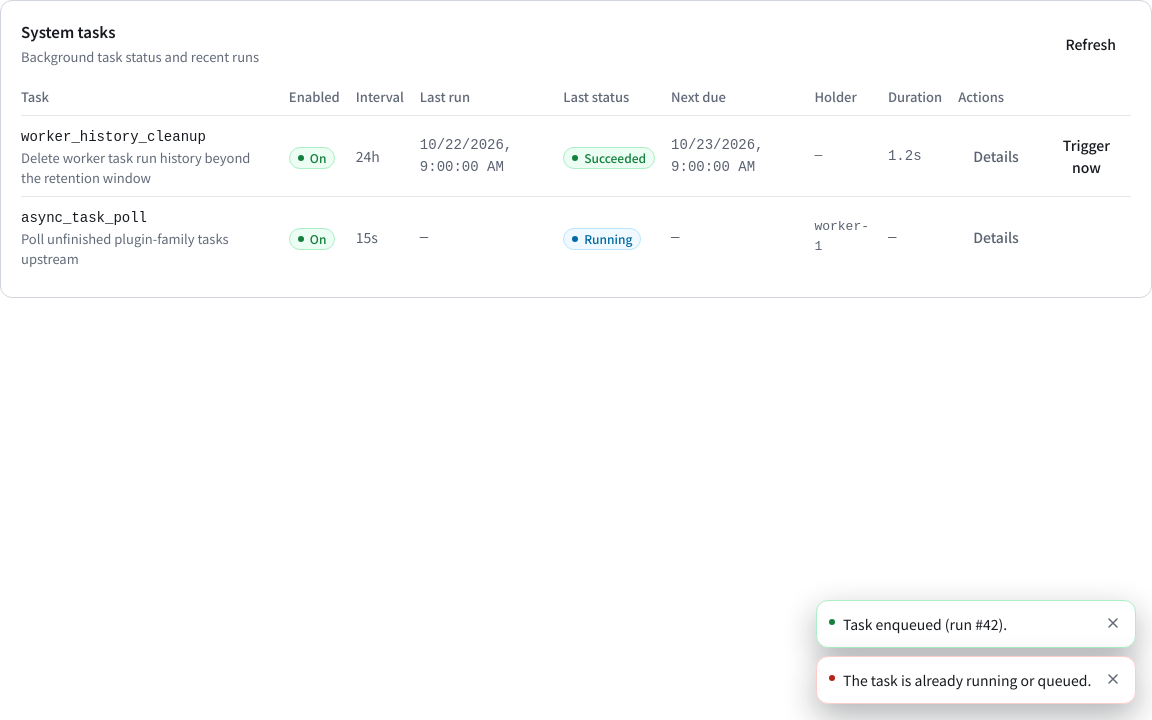
Test: SystemTasksCard › reports worker unavailability when the 409 races the poll
Expected: the button "worker_history_cleanup" is shown, [21, 126, 206, 148]
Click the button "Trigger now".
click(1086, 156)  # box [1042, 138, 1131, 174]
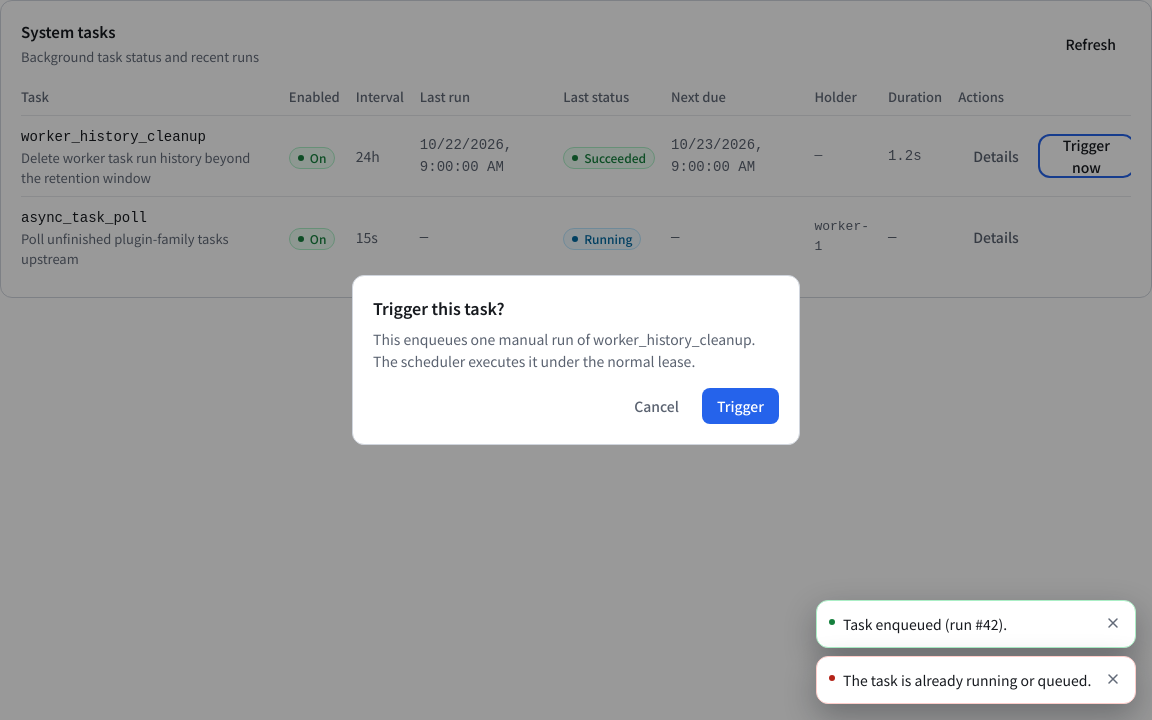
Click the button "Trigger".
click(740, 406)  # box [702, 388, 779, 424]
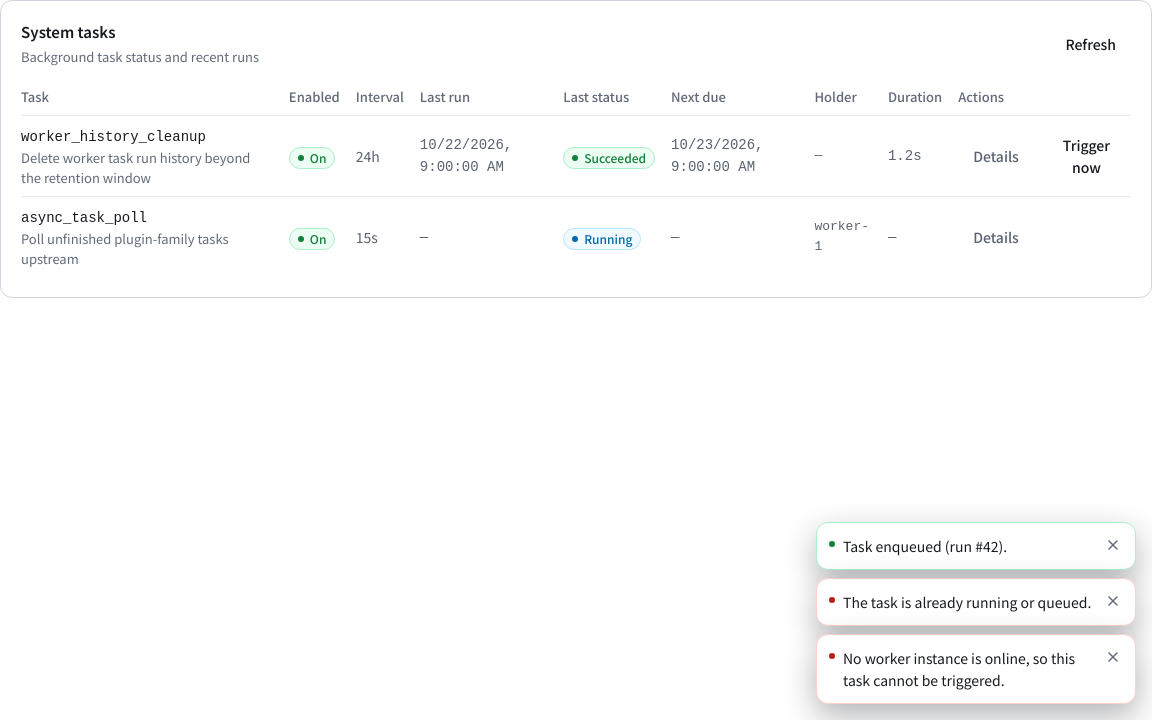
Now the text "No worker instance is online, so this task cannot be triggered." is shown, box [843, 647, 1095, 691]
